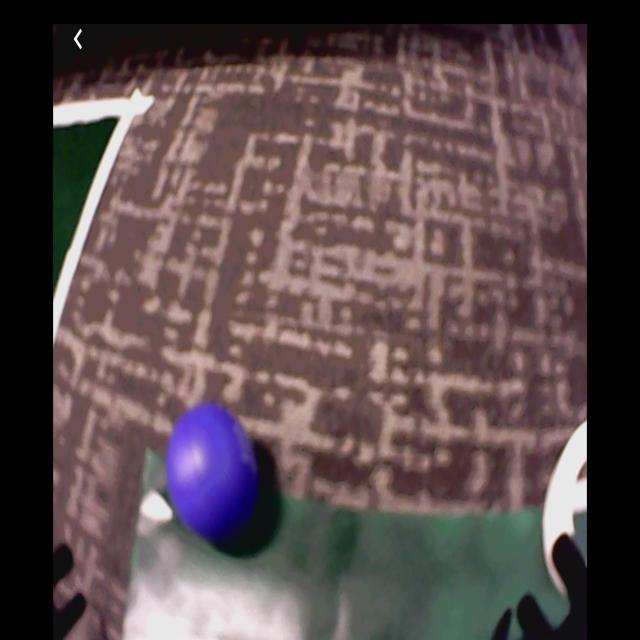ball: (168, 402, 259, 547)
